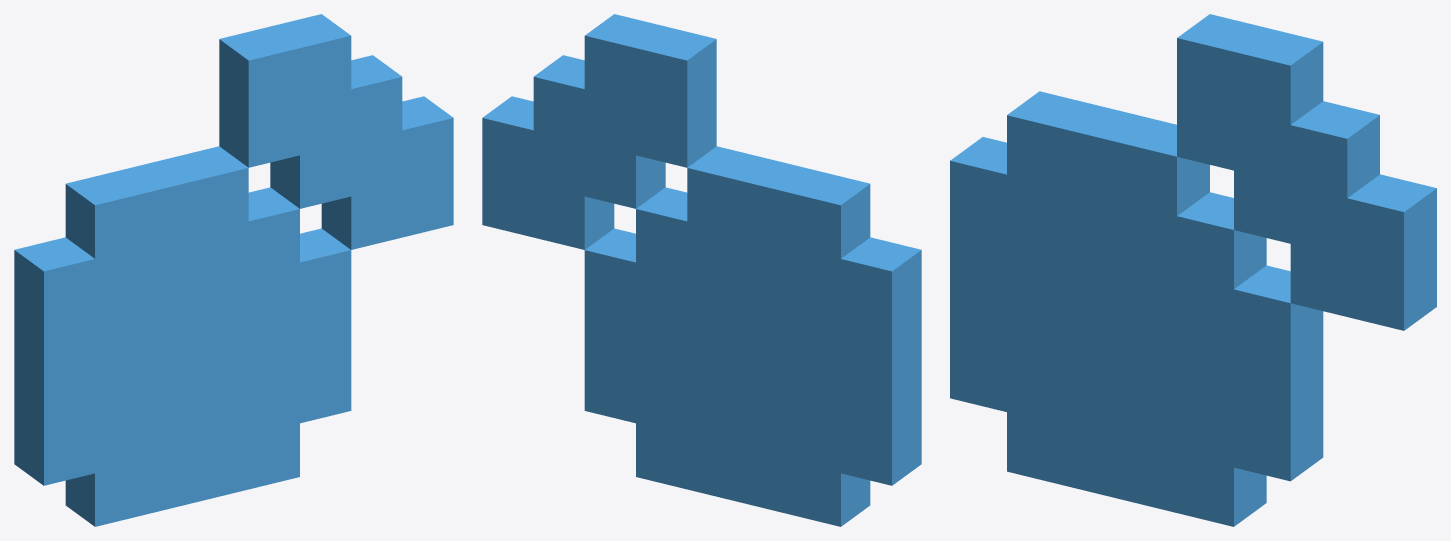
The model's file is Bag-Large-Blue.vox.obj.
3 renders of one model, left to right at view 1: azimuth 30°, elevation 25°; view 2: azimuth 150°, elevation 25°; view 3: azimuth 330°, elevation 25°, orthographic. The views are drawn at different scales.
Bounding box in the file's own units: 0.8 × 0.8 × 0.1.
Materials: 1 (1 with a texture image).
